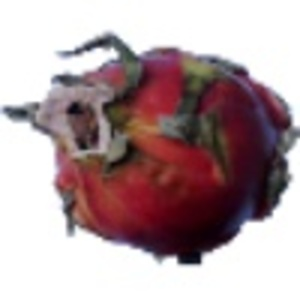pitaia: (1, 31, 300, 267)
